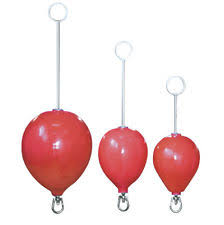buoy: (23, 110, 92, 193), (100, 128, 147, 191), (153, 135, 200, 195)
